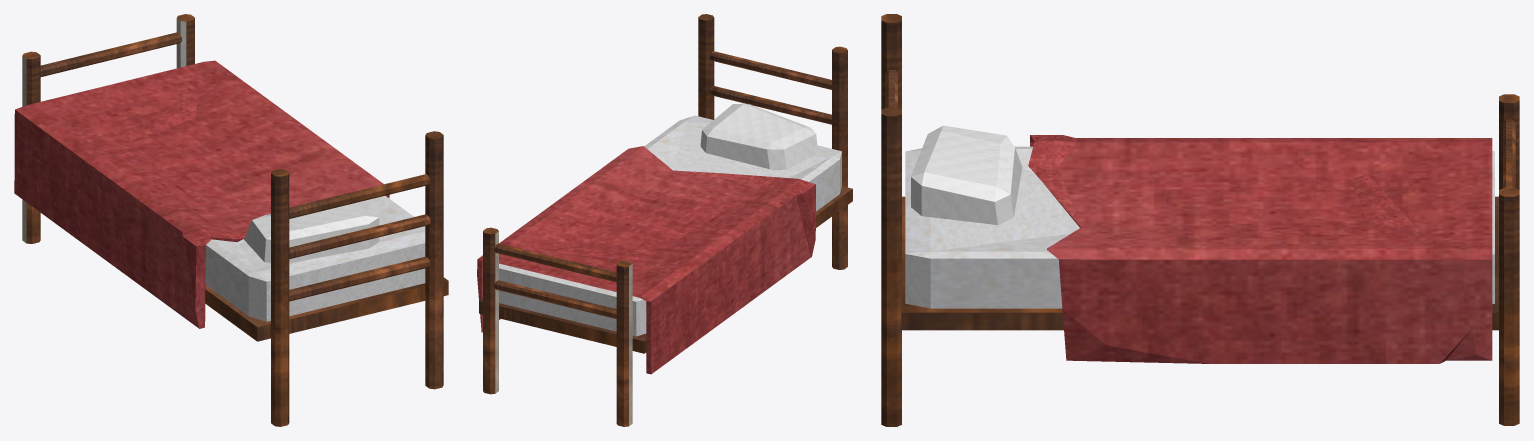
The model's file is bed1.fbx.
The picture shows the model from 3 angles, left to right: view 1: azimuth 30°, elevation 25°; view 2: azimuth 150°, elevation 25°; view 3: azimuth 270°, elevation 25°; orthographic projection. The views are drawn at different scales.
Parts seen in each view (by area): view 1: blanket.001, bed.002, pillow.002; view 2: blanket.001, bed.002, pillow.002; view 3: blanket.001, bed.002, pillow.002.
Boxes of the visible parts, <box> form: blanket.001: <box>14,60,389,328</box>; bed.002: <box>22,14,448,426</box>; pillow.002: <box>244,203,379,262</box>; blanket.001: <box>477,146,815,374</box>; bed.002: <box>479,14,852,426</box>; pillow.002: <box>700,103,817,169</box>; blanket.001: <box>1028,135,1492,363</box>; bed.002: <box>881,14,1519,426</box>; pillow.002: <box>911,125,1022,224</box>.
Size of the model in its own units: 521 by 605 by 1125.
